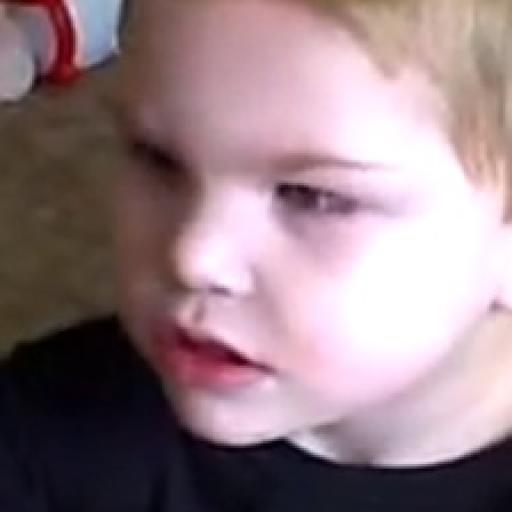Autism: (125, 9, 512, 480)
